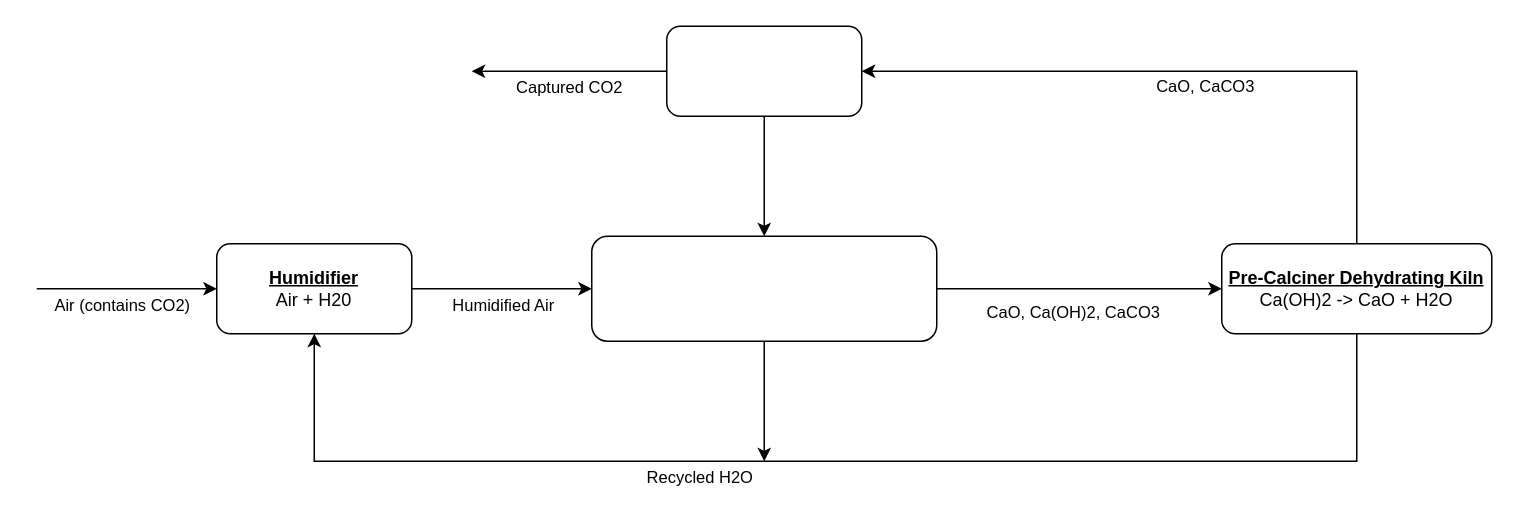
Image size: 1518x513. Some labels were removed from this diagram. Here are the shapes that lost their labels. From the top down, the centre of each, then its label:
At (x=763, y=70): "Calciner CaCO3 -> CaO + CO2".
At (x=763, y=288): "CO2 Absorption Bed CaO + H20 -> Ca(OH)2 Ca(OH)2 + CO2 -> CaCO3 + H2O".
